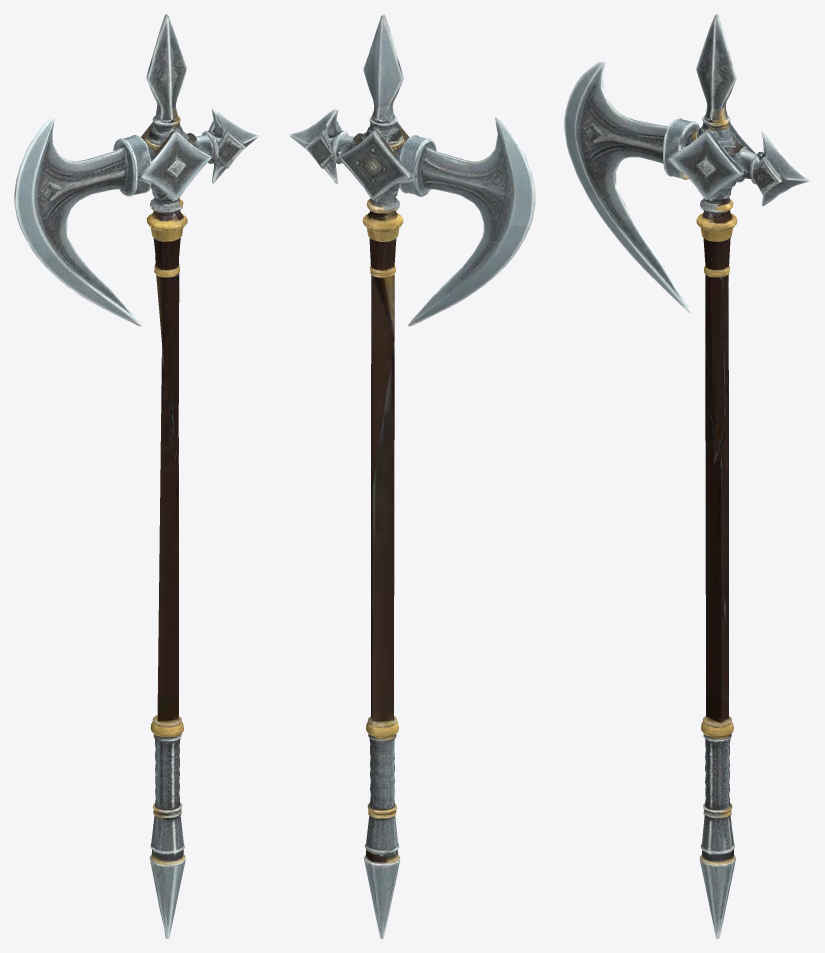
Rendered from ferro.glb.
3 views of the same model, side by side, from view 1: azimuth 30°, elevation 25°; view 2: azimuth 150°, elevation 25°; view 3: azimuth 330°, elevation 25° (orthographic).
Bounding box in the file's own units: 0.5293 × 1.9 × 0.0869.
Materials: 1 (1 with a texture image).
